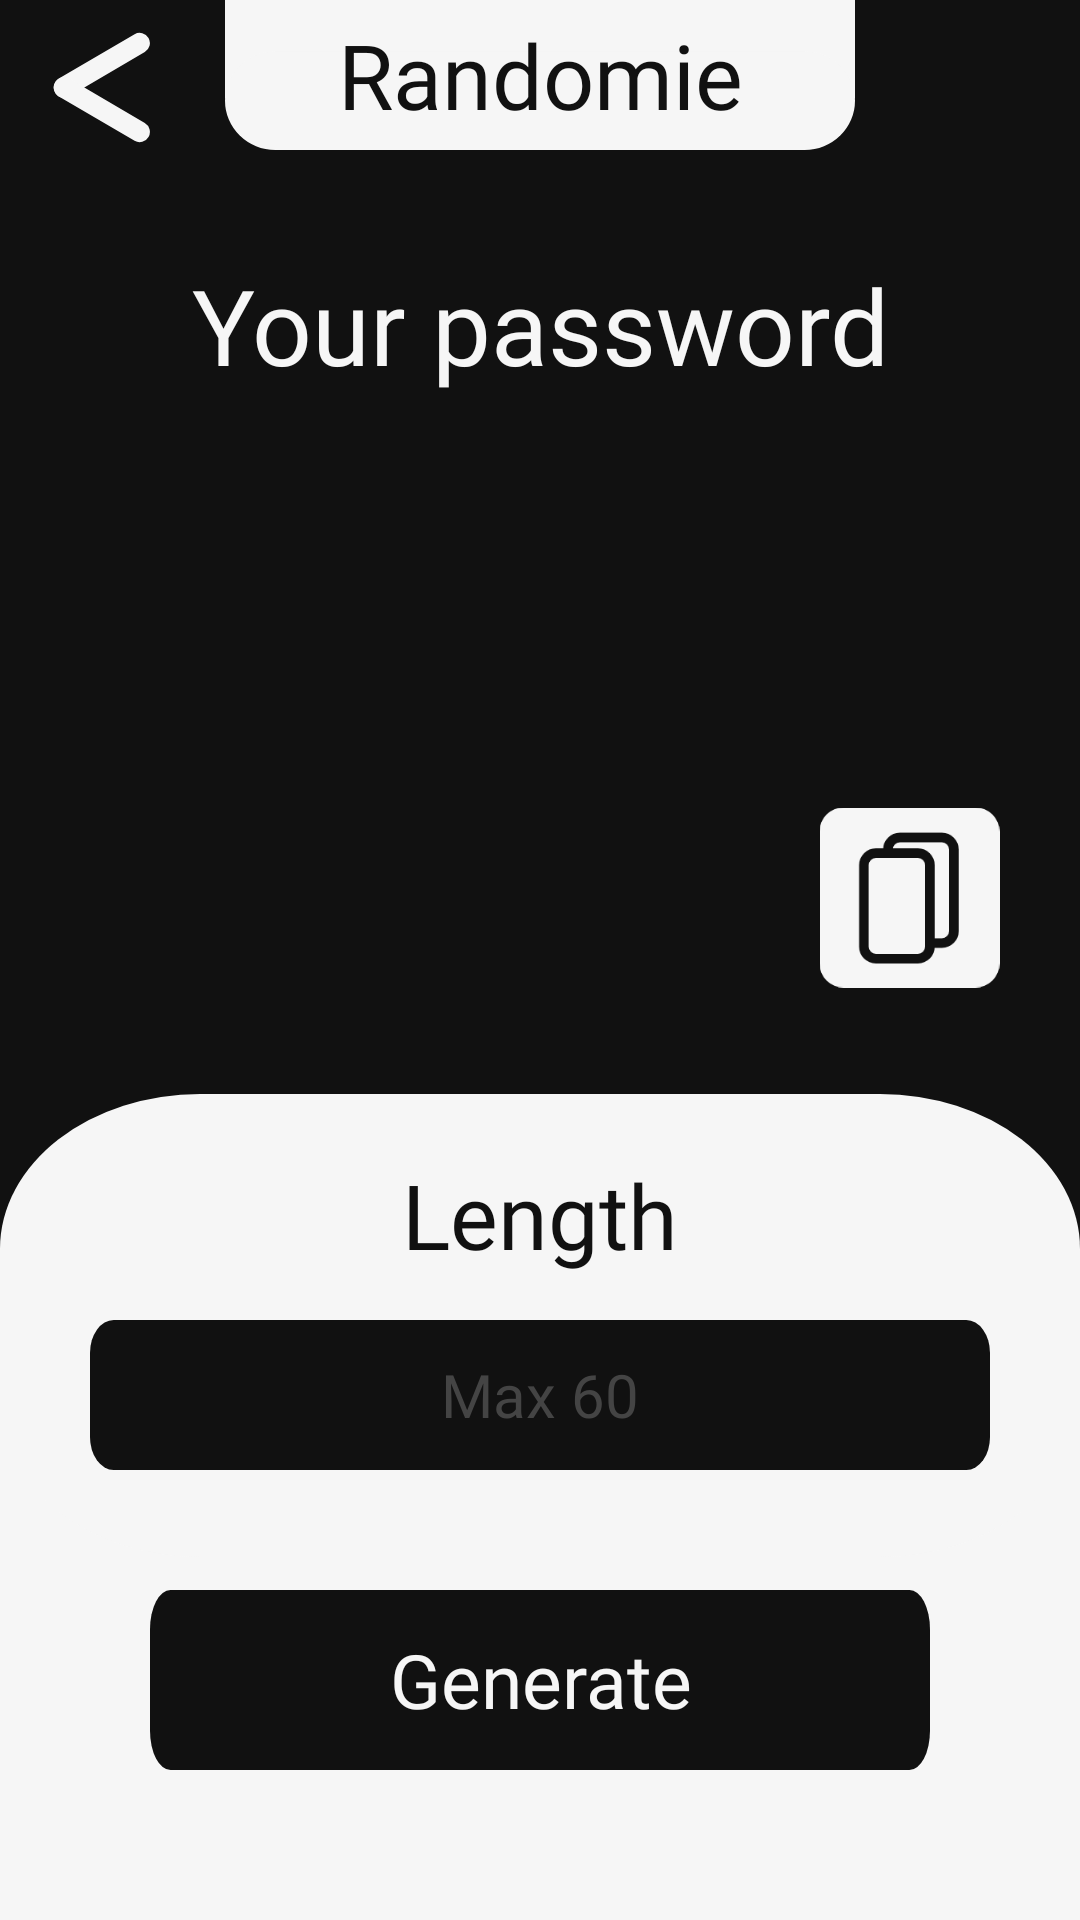

Screen size 1080px x 1920px. Icon name, then its box in pixels as (x1, y1, x2, y2):
back: (53, 32, 150, 143)
